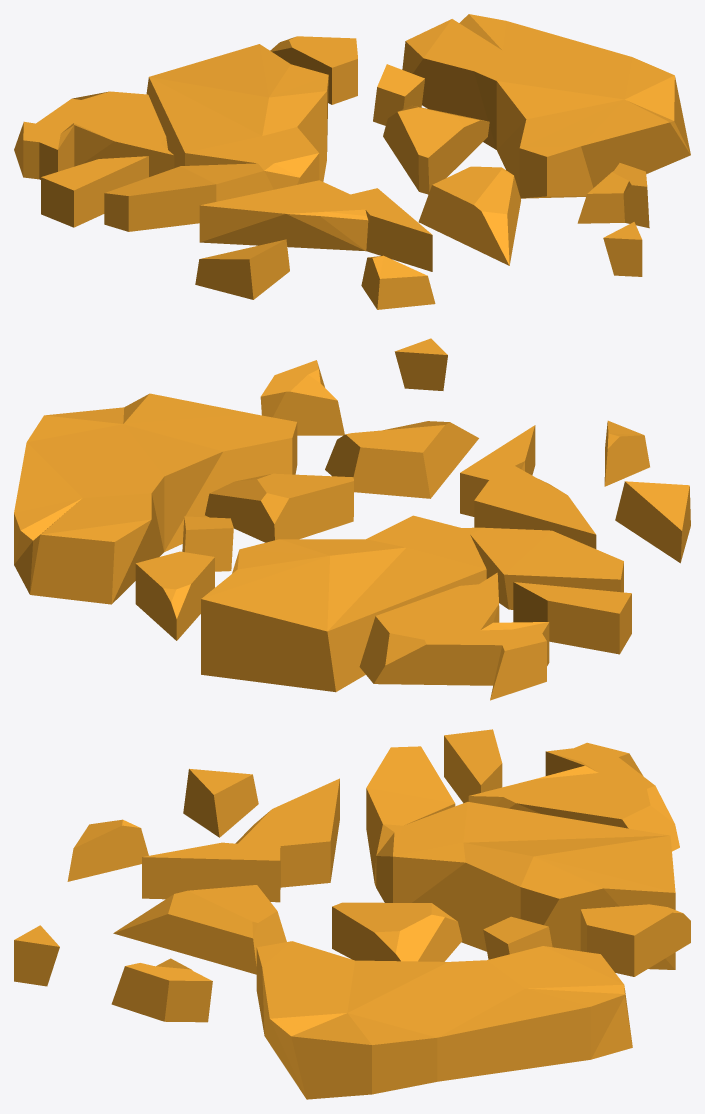
The model's file is SM_Iceberg_Shards_B.fbx.
The picture shows the model from 3 angles, top to bottom: view 1: azimuth 30°, elevation 25°; view 2: azimuth 150°, elevation 25°; view 3: azimuth 270°, elevation 25°; orthographic projection. The views are drawn at different scales.
Visible parts, largest first — view 1: iceberg-shards-b; view 2: iceberg-shards-b; view 3: iceberg-shards-b.
Part boxes in pixels (x1=…): iceberg-shards-b: x1=14, y1=14, x2=690, y2=309; iceberg-shards-b: x1=14, y1=338, x2=690, y2=700; iceberg-shards-b: x1=14, y1=729, x2=690, y2=1099.
Bounding box in the file's own units: 5.78 × 0.74 × 5.24.
